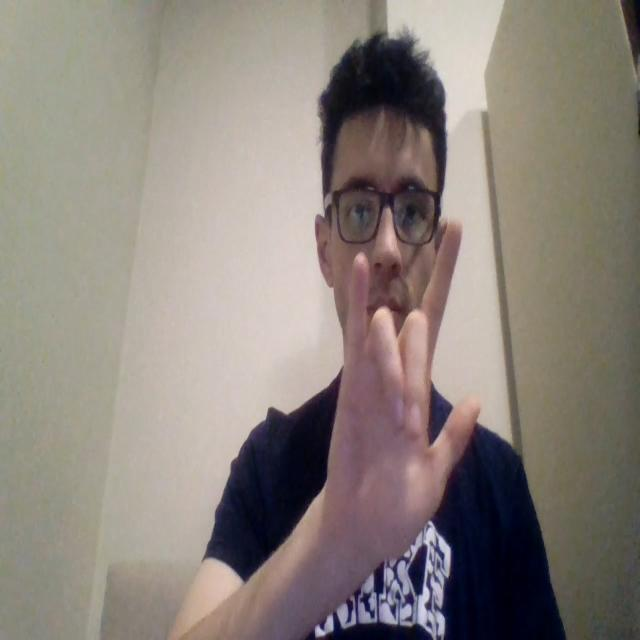iloveyou: (323, 218, 481, 572)
